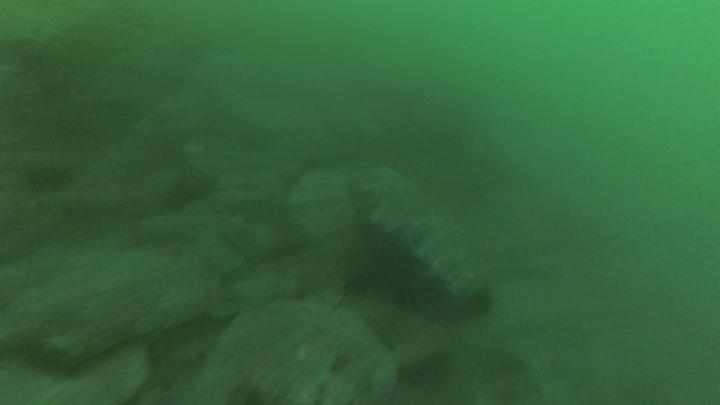echinus: (169, 176, 210, 207), (28, 167, 72, 193)
